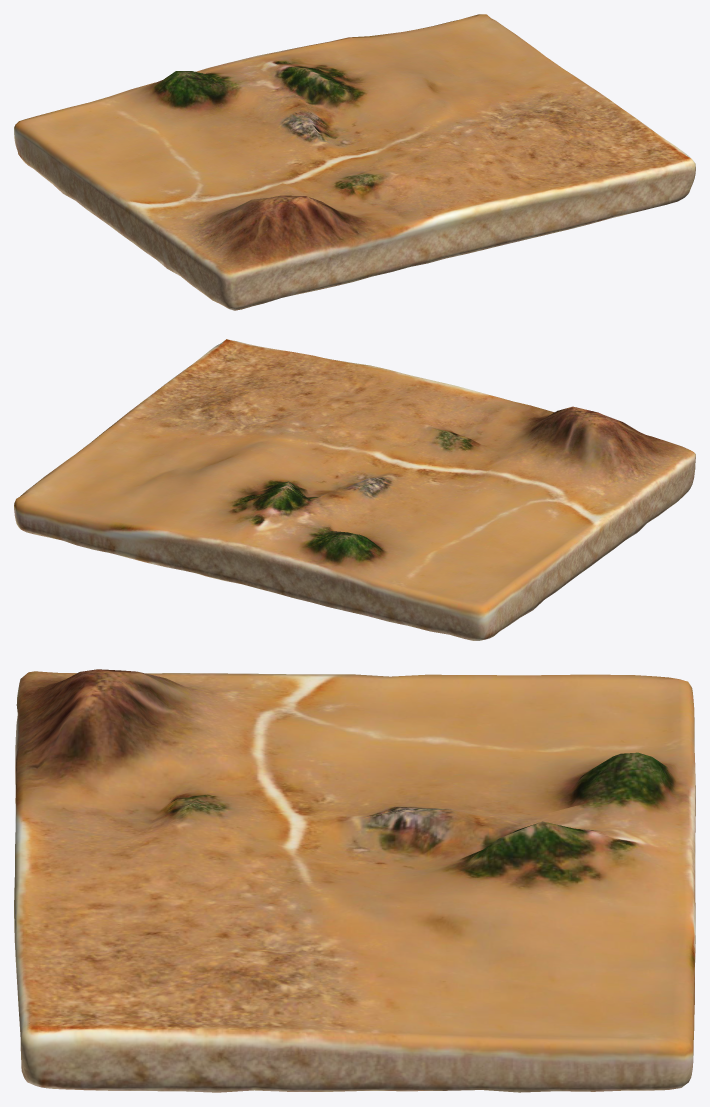
File: desert_map_min.glb
The picture shows the model from 3 angles, top to bottom: view 1: azimuth 30°, elevation 25°; view 2: azimuth 150°, elevation 25°; view 3: azimuth 270°, elevation 25°; orthographic projection. The views are drawn at different scales.
Visible parts, largest first — view 1: mesh; view 2: mesh; view 3: mesh.
Boxes of the visible parts, x1=… form: mesh: x1=14, y1=14, x2=695, y2=310; mesh: x1=14, y1=339, x2=695, y2=640; mesh: x1=14, y1=669, x2=695, y2=1092.
Size of the model in its own units: 0.9997 by 0.1548 by 0.7935.
1 material, 1 textured.
